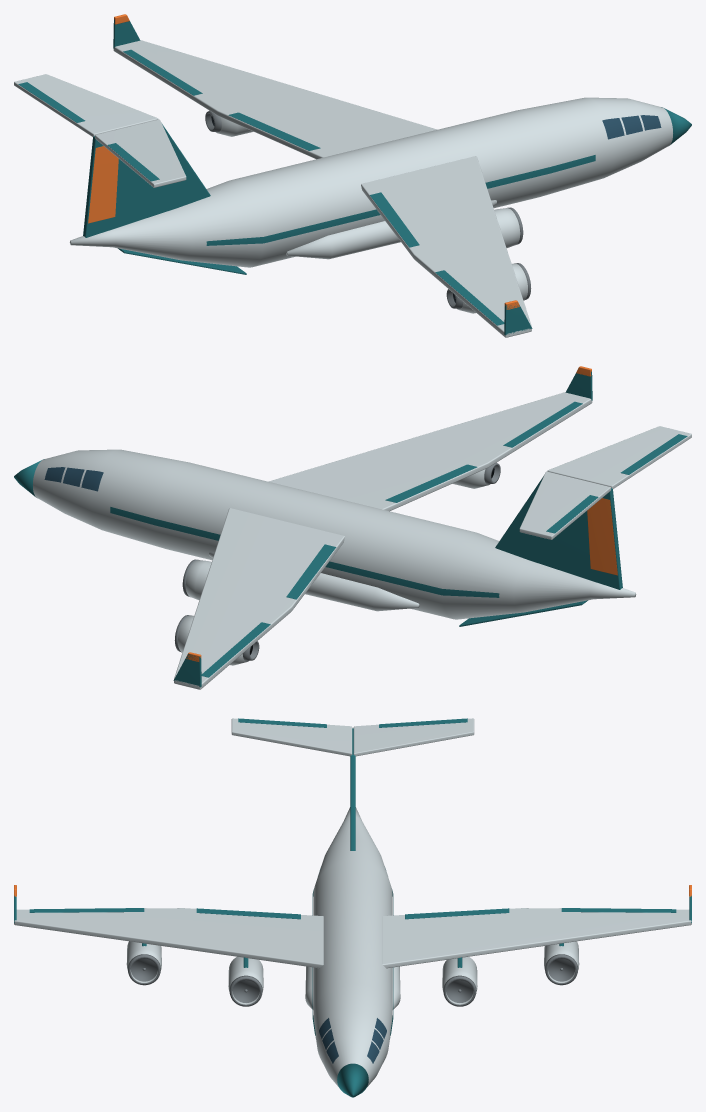
Rendered from cargo_jet.glb.
The picture shows the model from 3 angles, top to bottom: view 1: azimuth 30°, elevation 25°; view 2: azimuth 150°, elevation 25°; view 3: azimuth 270°, elevation 25°; orthographic projection. The views are drawn at different scales.
Parts seen in each view (by area): view 1: Fuselage, High wing_left, High wing_right, Vertical stabilizer, T-tail horizontal stabilizer_right, T-tail horizontal stabilizer_left, Gear sponson_left, Fuselage stripe_left, Rudder marking, Flap marking_left, Engine nacelle_left_inner, Flap marking_right (+6 smaller); view 2: Fuselage, High wing_right, High wing_left, Vertical stabilizer, T-tail horizontal stabilizer_left, T-tail horizontal stabilizer_right, Gear sponson_right, Fuselage stripe_right, Rudder marking, Flap marking_right, Engine nacelle_right_inner, Flap marking_left (+6 smaller); view 3: Fuselage, High wing_left, High wing_right, T-tail horizontal stabilizer_left, T-tail horizontal stabilizer_right, Nose radome, Intake rim_left_inner, Intake rim_right_inner, Intake rim_left_outer, Intake rim_right_outer, Engine nacelle_left_inner, Engine nacelle_right_inner (+3 smaller).
Boxes of the visible parts, left/top/right/bottom form: Fuselage: left=69, top=97, right=672, bottom=267; High wing_left: left=361, top=156, right=531, bottom=337; High wing_right: left=113, top=40, right=437, bottom=159; Vertical stabilizer: left=83, top=124, right=210, bottom=237; T-tail horizontal stabilizer_right: left=14, top=74, right=158, bottom=136; T-tail horizontal stabilizer_left: left=95, top=119, right=186, bottom=187; Gear sponson_left: left=286, top=200, right=496, bottom=259; Fuselage stripe_left: left=206, top=155, right=595, bottom=245; Rudder marking: left=88, top=146, right=118, bottom=223; Flap marking_left: left=369, top=192, right=419, bottom=247; Engine nacelle_left_inner: left=494, top=208, right=520, bottom=247; Flap marking_right: left=228, top=112, right=320, bottom=150; Fuselage: left=33, top=449, right=636, bottom=619; High wing_right: left=174, top=508, right=344, bottom=689; High wing_left: left=268, top=392, right=592, bottom=511; Vertical stabilizer: left=495, top=476, right=622, bottom=589; T-tail horizontal stabilizer_left: left=547, top=426, right=691, bottom=488; T-tail horizontal stabilizer_right: left=519, top=471, right=610, bottom=539; Gear sponson_right: left=209, top=552, right=419, bottom=611; Fuselage stripe_right: left=110, top=507, right=499, bottom=597; Rudder marking: left=587, top=498, right=617, bottom=575; Flap marking_right: left=286, top=544, right=336, bottom=599; Engine nacelle_right_inner: left=185, top=560, right=211, bottom=599; Flap marking_left: left=385, top=464, right=477, bottom=502; Fuselage: left=313, top=807, right=392, bottom=1086; High wing_left: left=14, top=908, right=323, bottom=968; High wing_right: left=382, top=908, right=691, bottom=968; T-tail horizontal stabilizer_left: left=231, top=718, right=352, bottom=756; T-tail horizontal stabilizer_right: left=353, top=718, right=474, bottom=756; Nose radome: left=337, top=1063, right=368, bottom=1097; Intake rim_left_inner: left=229, top=975, right=262, bottom=1006; Intake rim_right_inner: left=443, top=975, right=476, bottom=1006; Intake rim_left_outer: left=127, top=954, right=160, bottom=985; Intake rim_right_outer: left=545, top=954, right=578, bottom=985; Engine nacelle_left_inner: left=228, top=956, right=263, bottom=1004; Engine nacelle_right_inner: left=442, top=956, right=477, bottom=1004.
Size of the model in its own units: 47.51 by 12.4 by 52.
